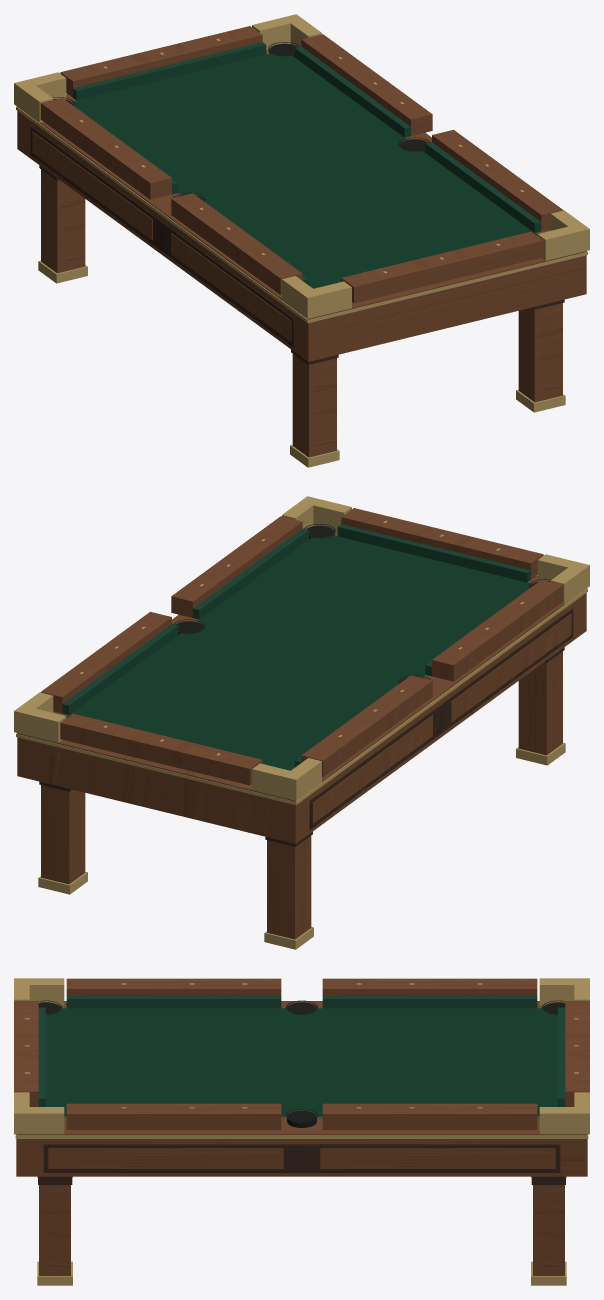
Rendered from PoolTable.fbx.
The picture shows the model from 3 angles, top to bottom: view 1: azimuth 30°, elevation 25°; view 2: azimuth 150°, elevation 25°; view 3: azimuth 270°, elevation 25°; orthographic projection.
Visible parts, largest first — view 1: Pool_Cloth, Pool_Rails, Pool_Body, Pool_Legs, Pool_Pockets; view 2: Pool_Cloth, Pool_Rails, Pool_Body, Pool_Legs, Pool_Pockets; view 3: Pool_Cloth, Pool_Rails, Pool_Body, Pool_Legs, Pool_Pockets.
Part boxes in pixels (box(x1,y1,x2,y2)): Pool_Cloth: box(72, 53, 537, 288); Pool_Rails: box(14, 14, 589, 318); Pool_Body: box(16, 50, 587, 361); Pool_Legs: box(38, 165, 565, 467); Pool_Pockets: box(52, 42, 539, 235); Pool_Cloth: box(66, 535, 531, 770); Pool_Rails: box(14, 496, 589, 800); Pool_Body: box(16, 532, 587, 843); Pool_Legs: box(38, 647, 565, 949); Pool_Pockets: box(64, 524, 551, 717); Pool_Cloth: box(46, 1008, 557, 1116); Pool_Rails: box(14, 978, 589, 1134); Pool_Body: box(15, 1001, 588, 1176); Pool_Legs: box(37, 1176, 566, 1285); Pool_Pockets: box(38, 1000, 565, 1127).
Size of the model in its own units: 1.4 by 0.86 by 2.52.
Materials: 5 (5 with a texture image).
